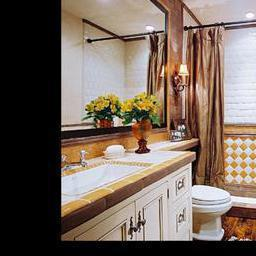Ducha: (188, 11, 256, 216)
Lavamanos: (62, 153, 153, 198)
Sanitario: (190, 183, 232, 240)
